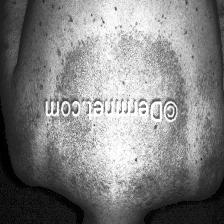Non-Cancerous Skin Condition: (58, 0, 208, 101), (166, 140, 206, 194)
